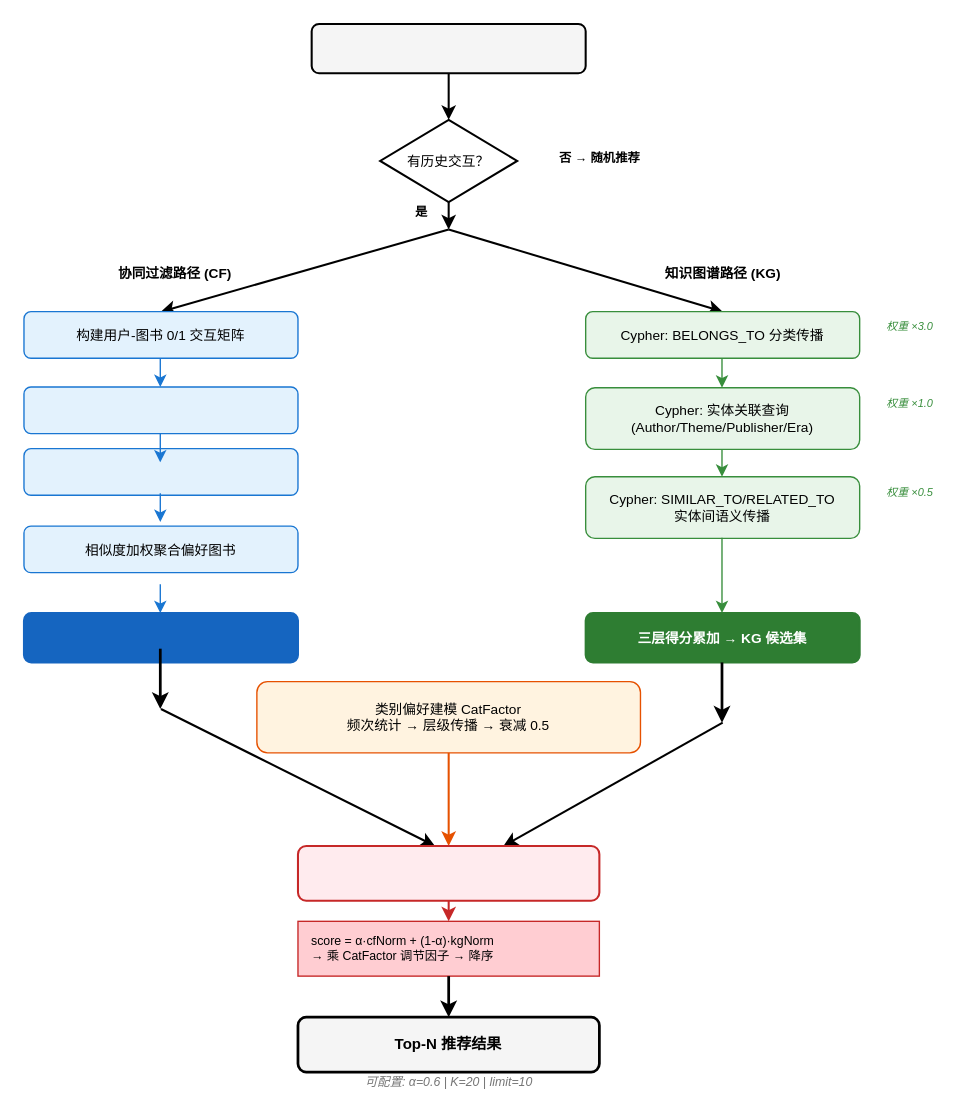
The diagram is 959 pixels wide and 1118 high, and some of its shapes have lost their labels. The centre of each missing label's shape, as x and y in pixels:
"Min-Max 归一化 → CF 候选集" belongs at point 160,637.
"加权混合排序" belongs at point 448,872.
"取 Top-20 最相似用户" belongs at point 160,471.
"用户ID + 历史行为数据" belongs at point 448,48.
"计算余弦相似度 cos(u, v)" belongs at point 160,410.
